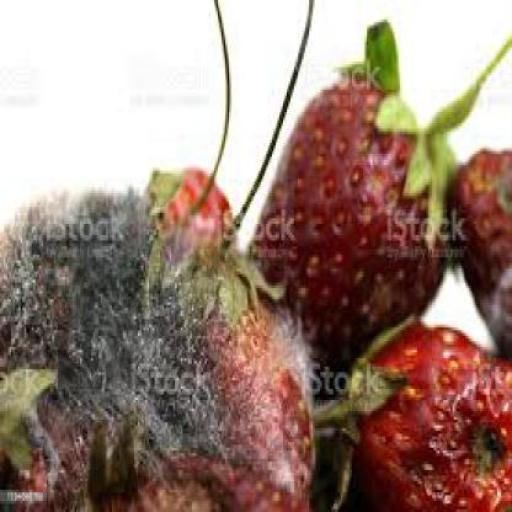biodegradable: (242, 17, 510, 361), (0, 184, 214, 442), (154, 266, 317, 509), (312, 310, 510, 510), (0, 370, 203, 509), (447, 148, 511, 358), (146, 162, 232, 258)
